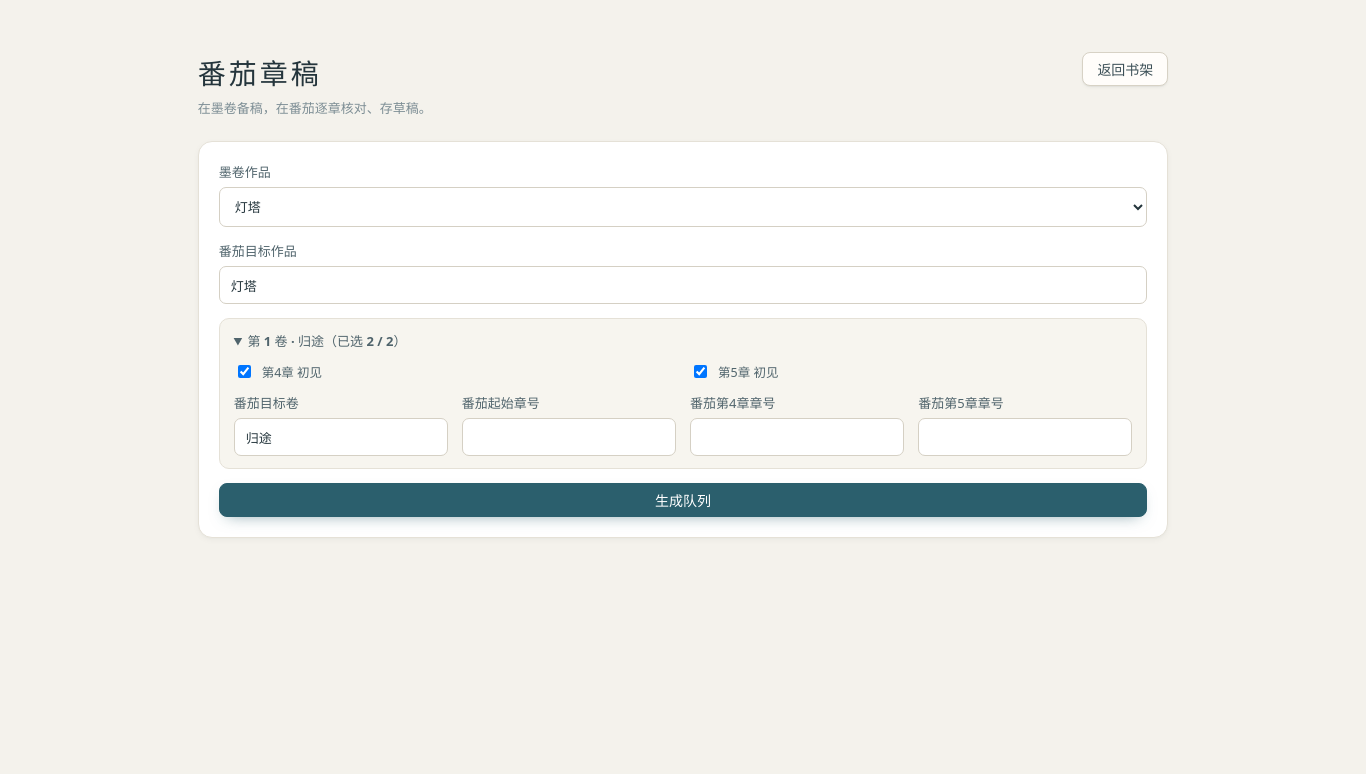
Test: keeps the active packet single, confirms before advancing, and keeps exact clipboard bytes
Earlier steps of the test are not shown.
Type "11" into the field labelled "番茄第4章章号" at (797, 437), box [690,418,904,456]
Type "11" into the field labelled "番茄第5章章号" at (1025, 437), box [918,418,1132,456]
Click the button "生成队列" at (683, 500), box [219,483,1147,517]
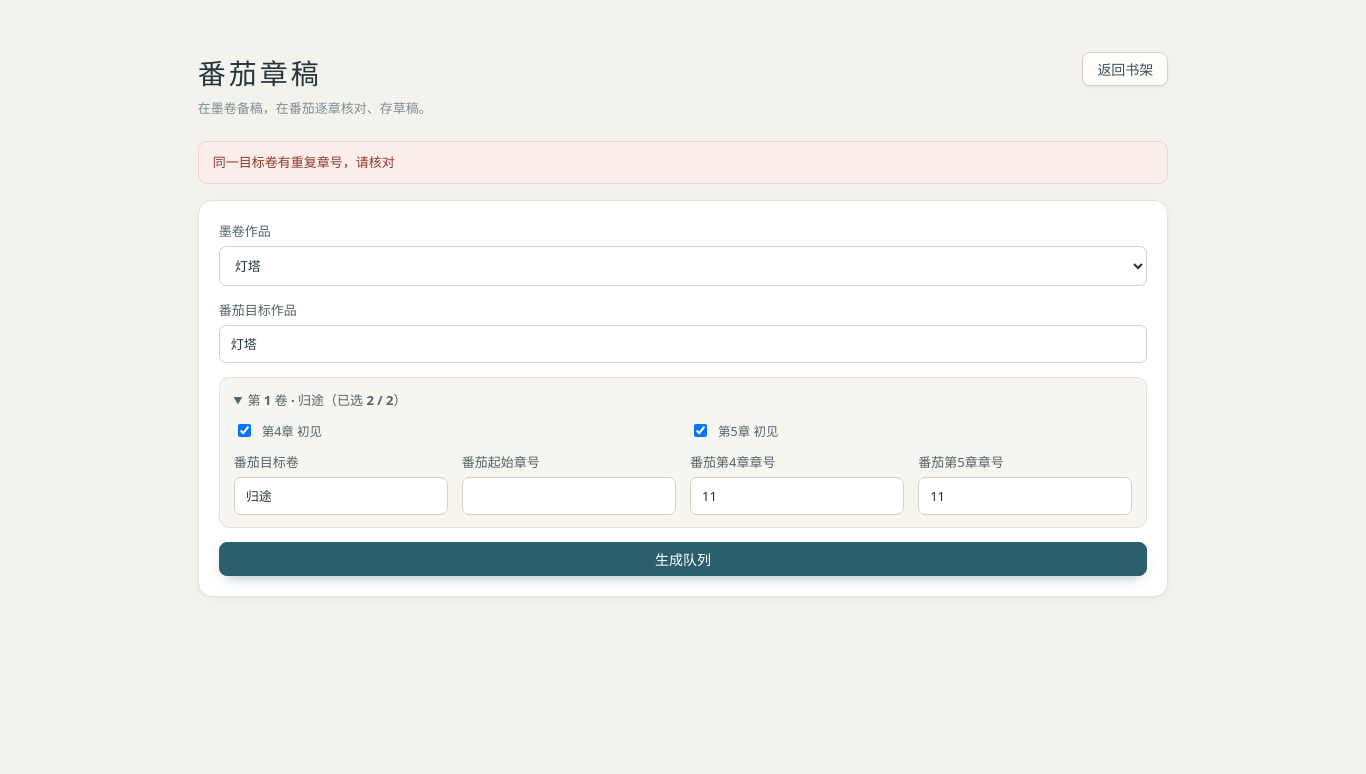
Check: the message "同一目标卷有重复章号，请核对" is shown, box [198,141,1168,184]
Replace the text in the field labelled "番茄第5章章号" with "12" at (1025, 496), box [918,477,1132,515]
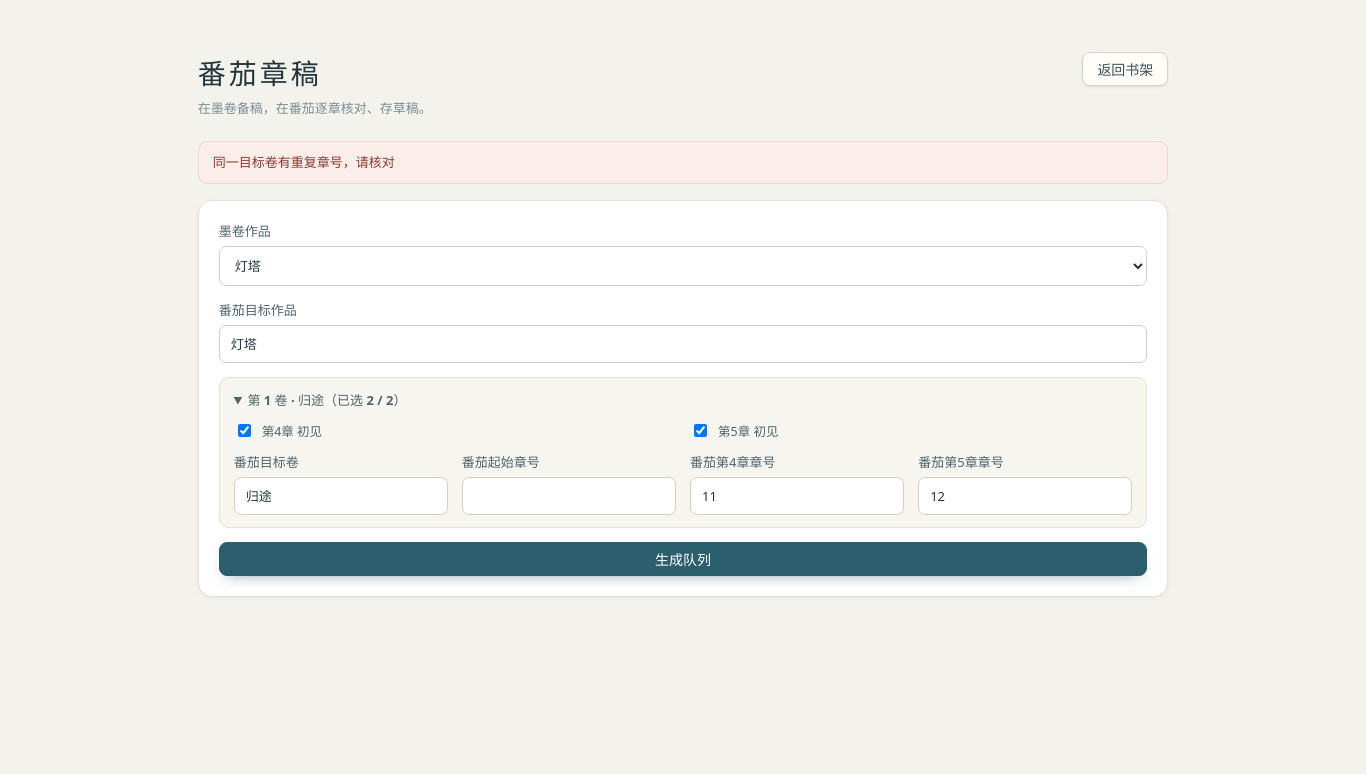
Click the button "生成队列" at (683, 559), box [219,542,1147,576]
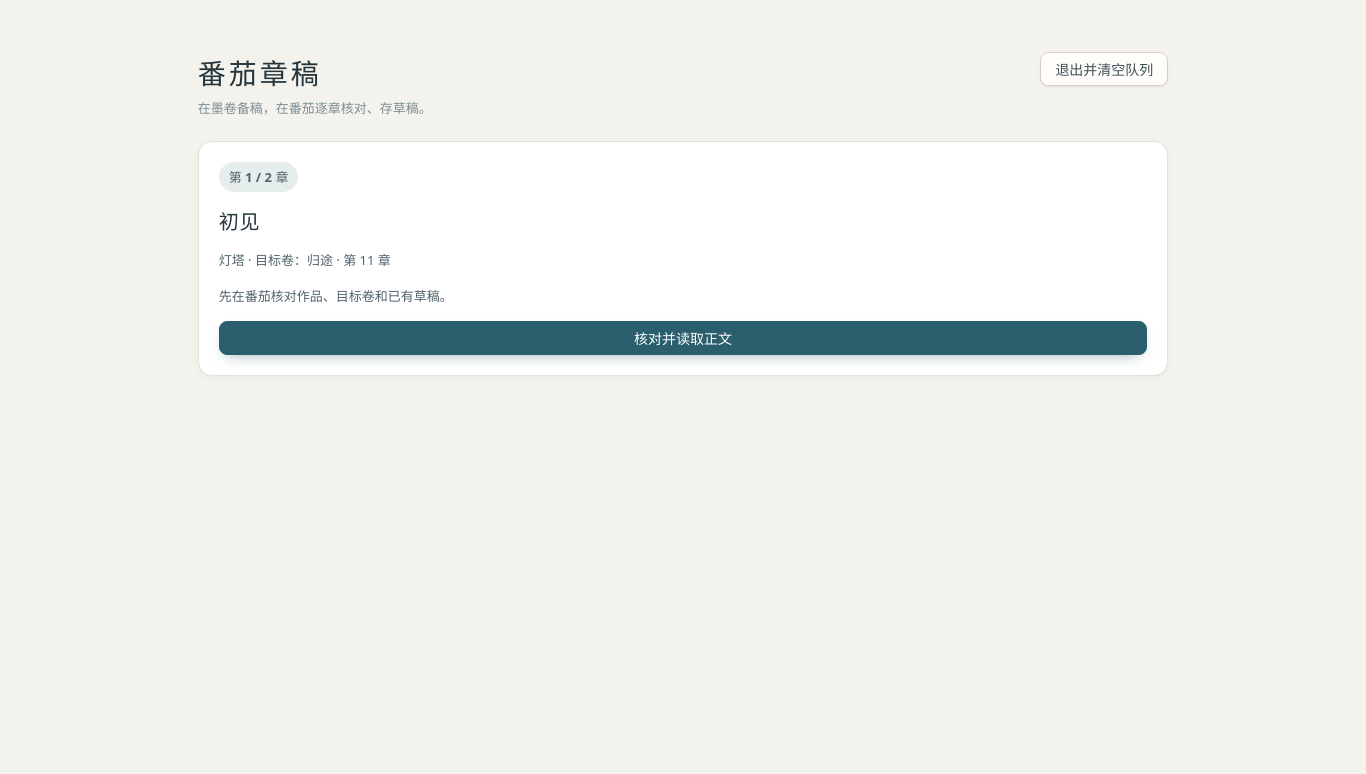
Click the button "核对并读取正文" at (683, 338), box [219,321,1147,355]
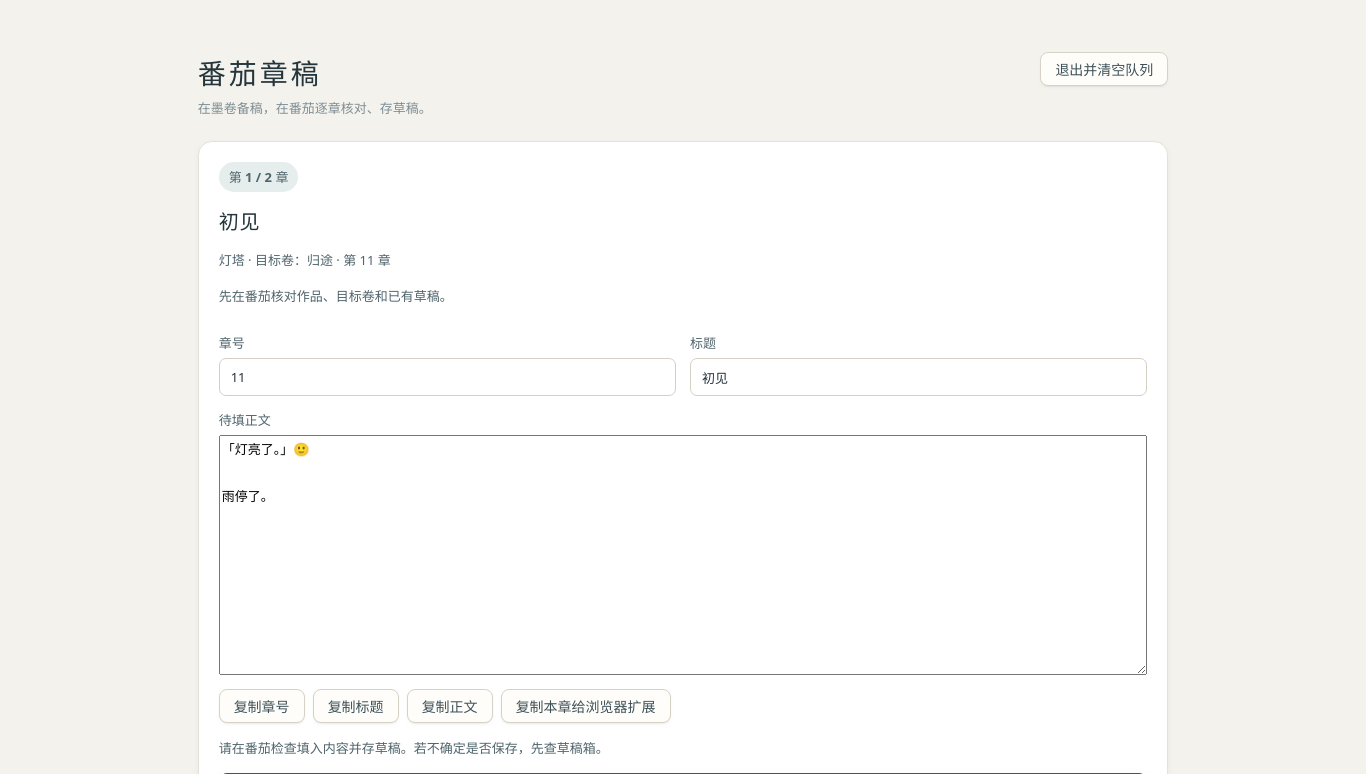
Check: the text box labelled "待填正文" is shown, box [219,435,1147,675]
Click the button "复制正文" at (450, 706), box [407,689,493,723]
(page scrolled)
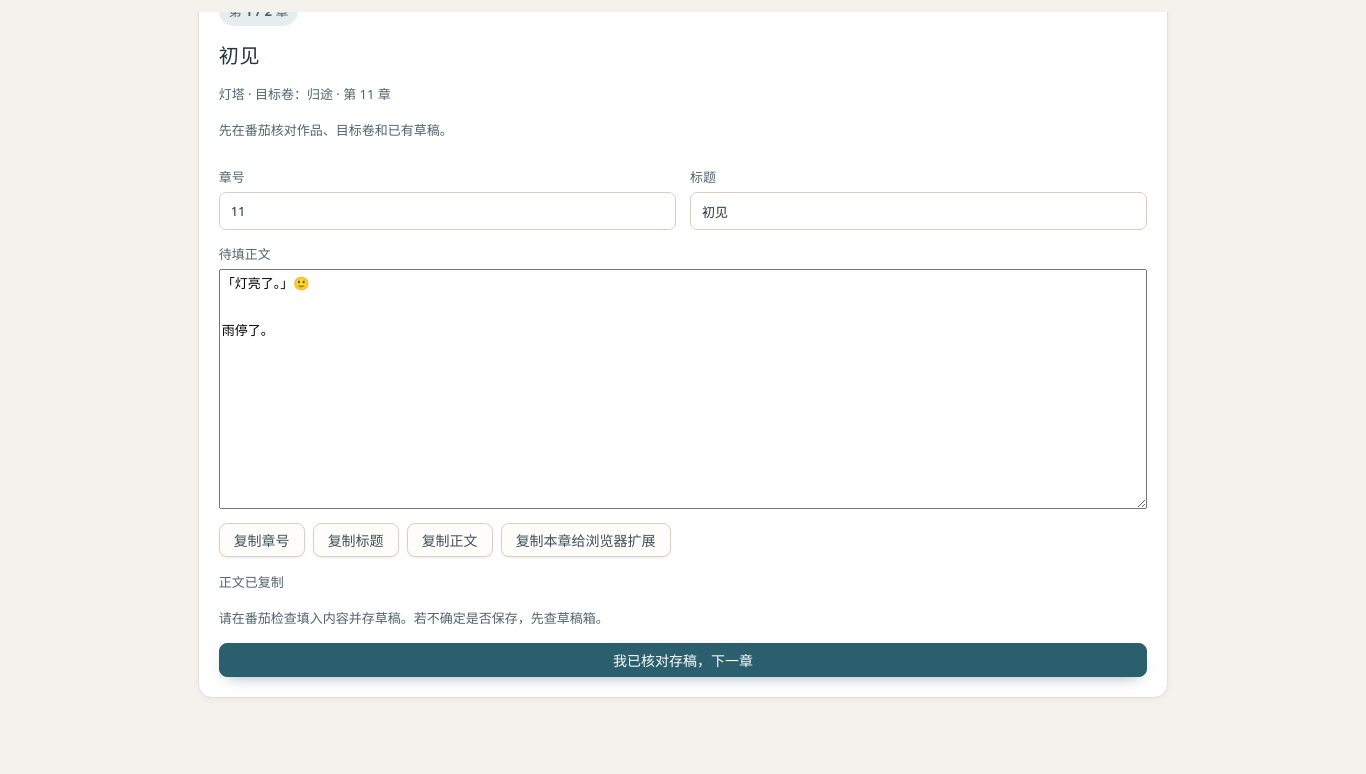
Check: the text "第 2 / 2 章" is not shown
Click the button "我已核对存稿，下一章" at (683, 660), box [219,643,1147,677]
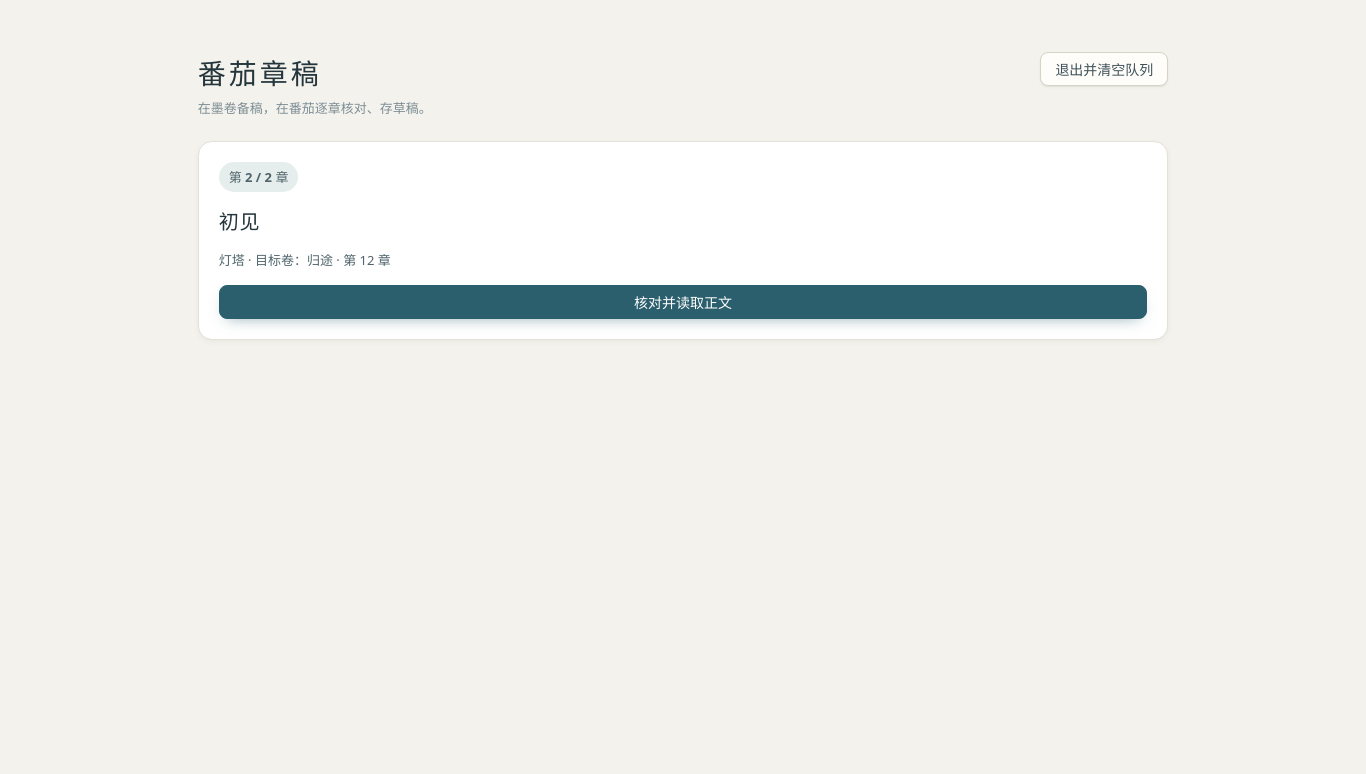
Check: the text "第 2 / 2 章" is shown, box [219,162,298,192]
Check: the label labelled "待填正文" is gone
